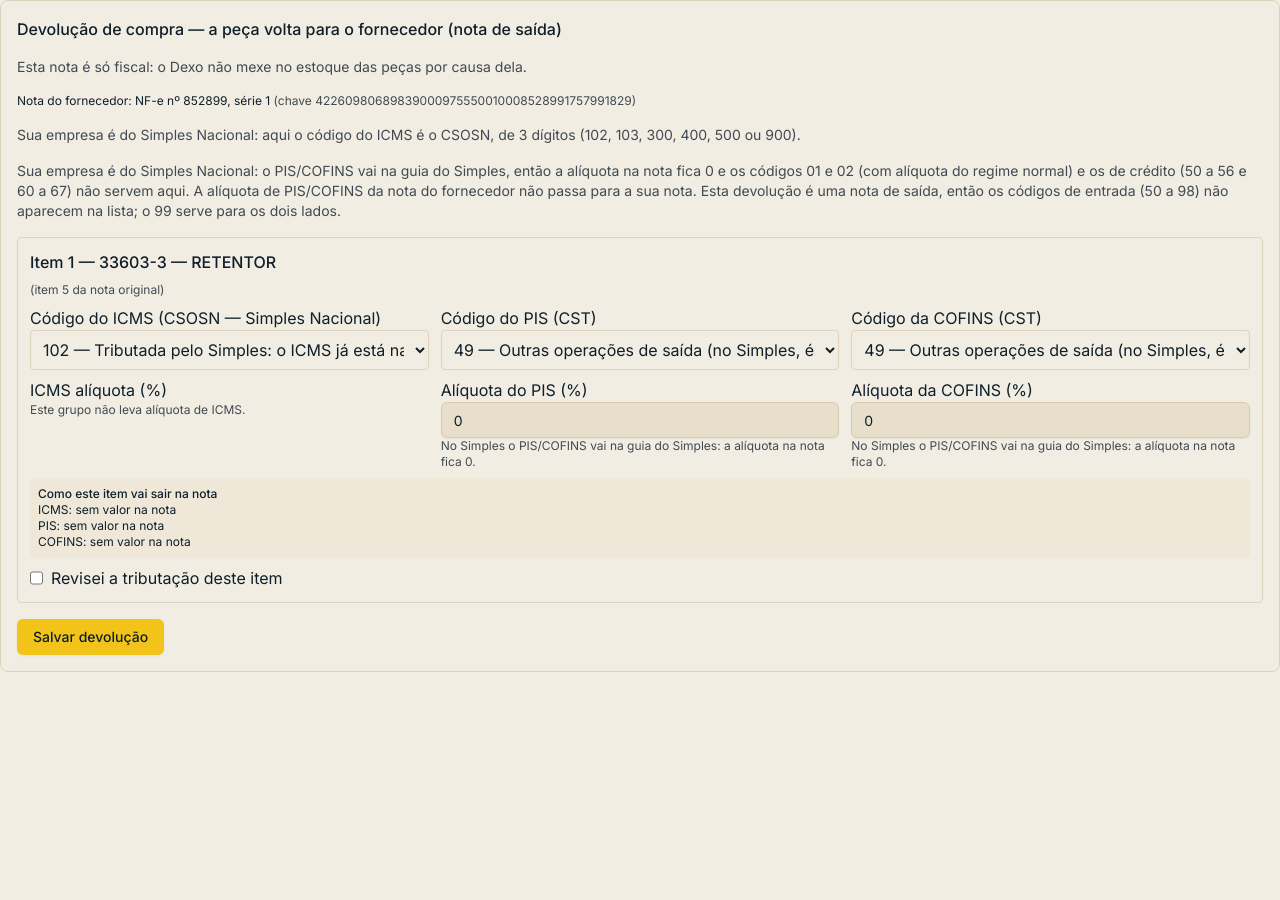
aviso de sentido e recusa do servidor › 422 do servidor com a recusa do PIS: a frase aparece na peça, sem o 'Item N:'
This screenshot has width=1280, height=900.
Step 1. Click the button "Salvar devolução" → click(91, 637), box [17,619,164,655]
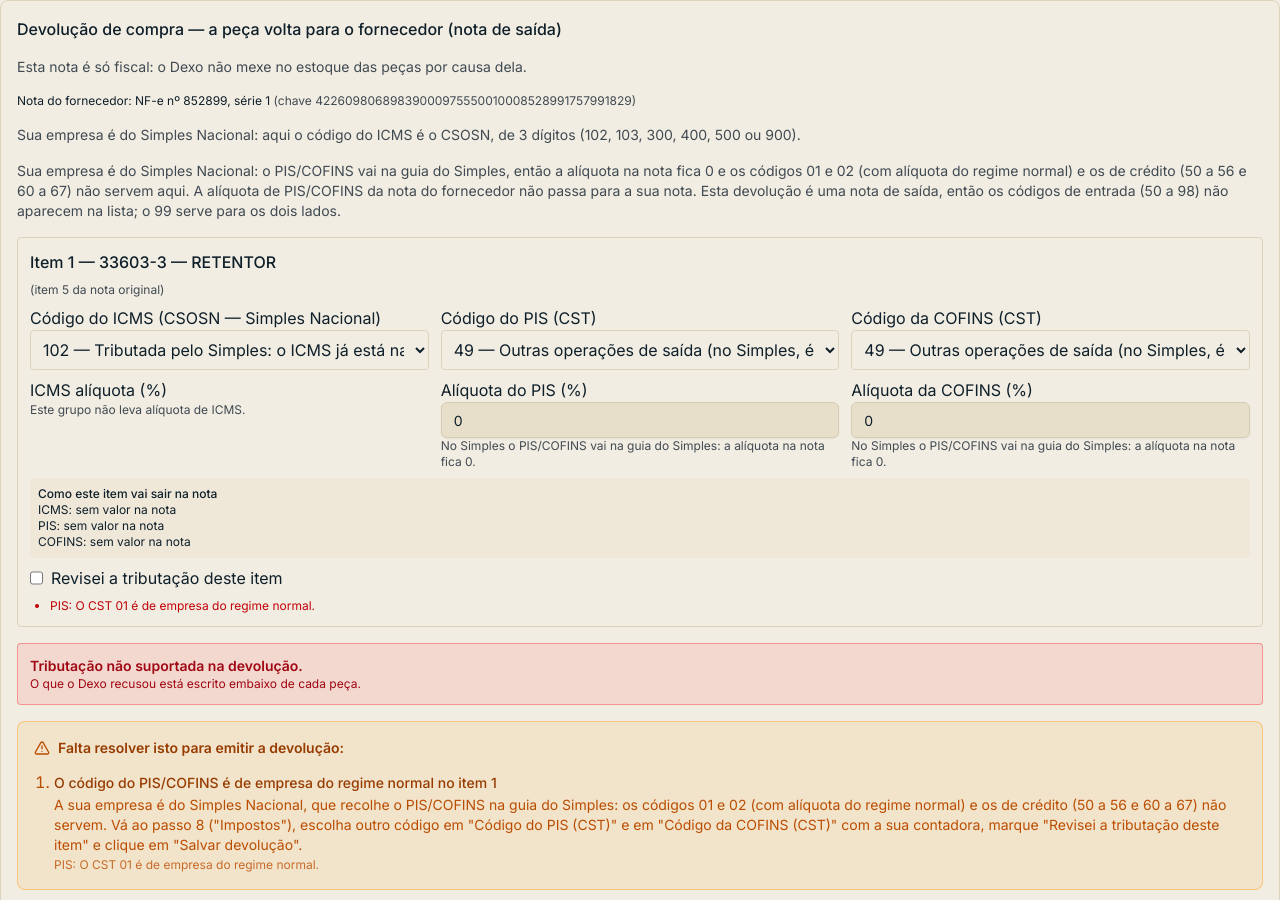
Expected: the text "O código do PIS/COFINS é de empresa do regime normal no item 1" is shown, [54,774,497,791]
